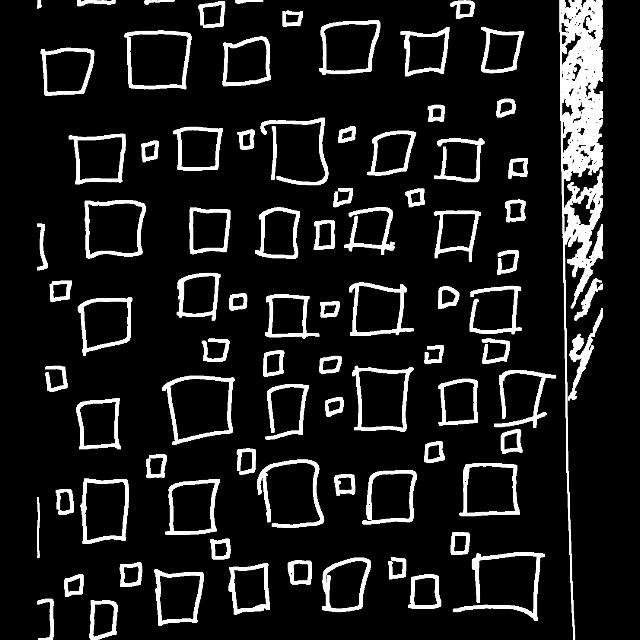square: (254, 448, 326, 534), (164, 368, 242, 447), (120, 25, 200, 101), (71, 288, 147, 364), (257, 116, 331, 188), (471, 552, 549, 618), (351, 359, 411, 438), (386, 26, 460, 88), (80, 196, 148, 262), (358, 462, 422, 530), (318, 12, 378, 84), (344, 282, 414, 341), (151, 560, 213, 624), (66, 130, 130, 192), (38, 42, 102, 102), (316, 552, 372, 618), (84, 468, 130, 548), (70, 386, 121, 456), (166, 476, 224, 536), (429, 136, 489, 194), (460, 466, 526, 518), (170, 274, 227, 334), (489, 372, 546, 431), (476, 26, 530, 86), (252, 206, 306, 266), (466, 280, 526, 334), (261, 380, 313, 438), (163, 124, 223, 174), (359, 129, 419, 179), (226, 555, 270, 621), (182, 206, 242, 254), (260, 291, 312, 343), (222, 38, 270, 92), (435, 374, 483, 428), (348, 202, 398, 250), (84, 592, 126, 638), (182, 336, 240, 369), (495, 426, 537, 462), (280, 551, 318, 589), (484, 246, 526, 280), (407, 574, 445, 610), (306, 216, 338, 256), (494, 198, 536, 228), (196, 535, 232, 569), (423, 284, 459, 318), (481, 90, 521, 120), (418, 338, 449, 376), (276, 2, 310, 36), (318, 388, 349, 424), (475, 338, 511, 368), (416, 432, 444, 470), (120, 552, 148, 588), (315, 348, 349, 376), (56, 572, 92, 598), (134, 136, 162, 168), (52, 482, 74, 522), (43, 356, 67, 392), (398, 187, 428, 215), (48, 278, 78, 306), (222, 290, 250, 320), (232, 444, 256, 478), (196, 5, 227, 31), (330, 121, 358, 149), (382, 553, 408, 583), (420, 100, 454, 122), (498, 156, 532, 178), (139, 452, 167, 478), (445, 532, 471, 558), (445, 0, 480, 19), (328, 183, 358, 205), (317, 298, 343, 322), (332, 470, 354, 498), (234, 121, 253, 153)
